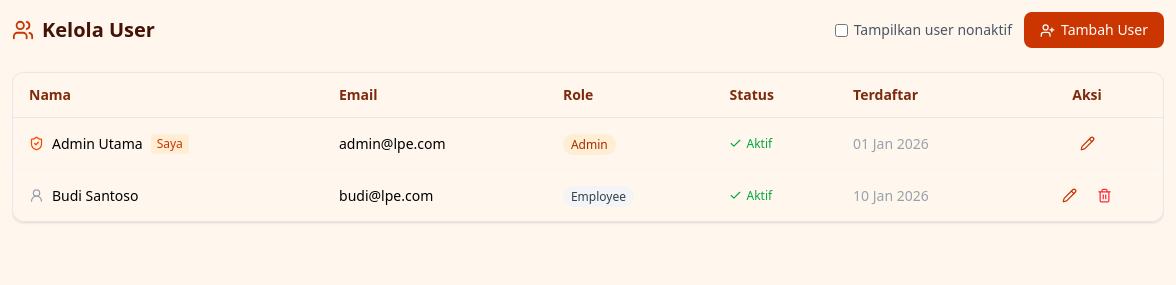
Scenario: UserManagement Component (components/admin/UserManagement.jsx) › harus menyembunyikan user nonaktif secara default dan menampilkannya saat checkbox dicentang
Expected: the text "Budi Santoso" is shown, [29, 186, 138, 204]
Expected: the text "User Lama" is not shown
# Centang checkbox
Click the checkbox labelled "Tampilkan user nonaktif": (841, 30) [835, 24, 848, 36]
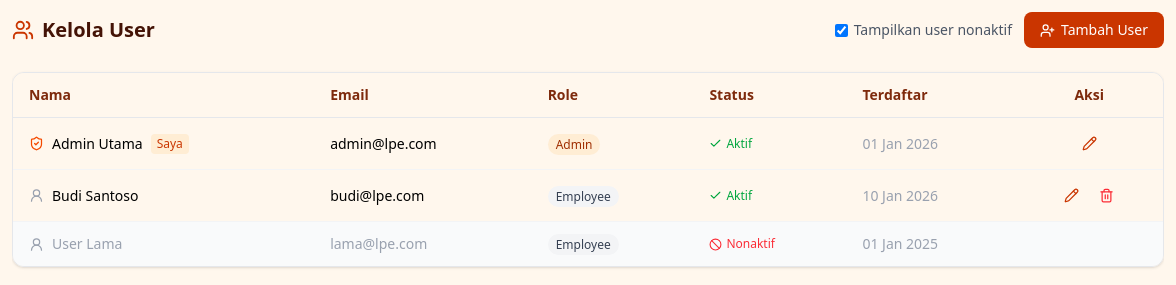
Result: the text "User Lama" is shown at [29, 234, 122, 253]
Result: the text "Nonaktif" is shown at [709, 235, 775, 252]
